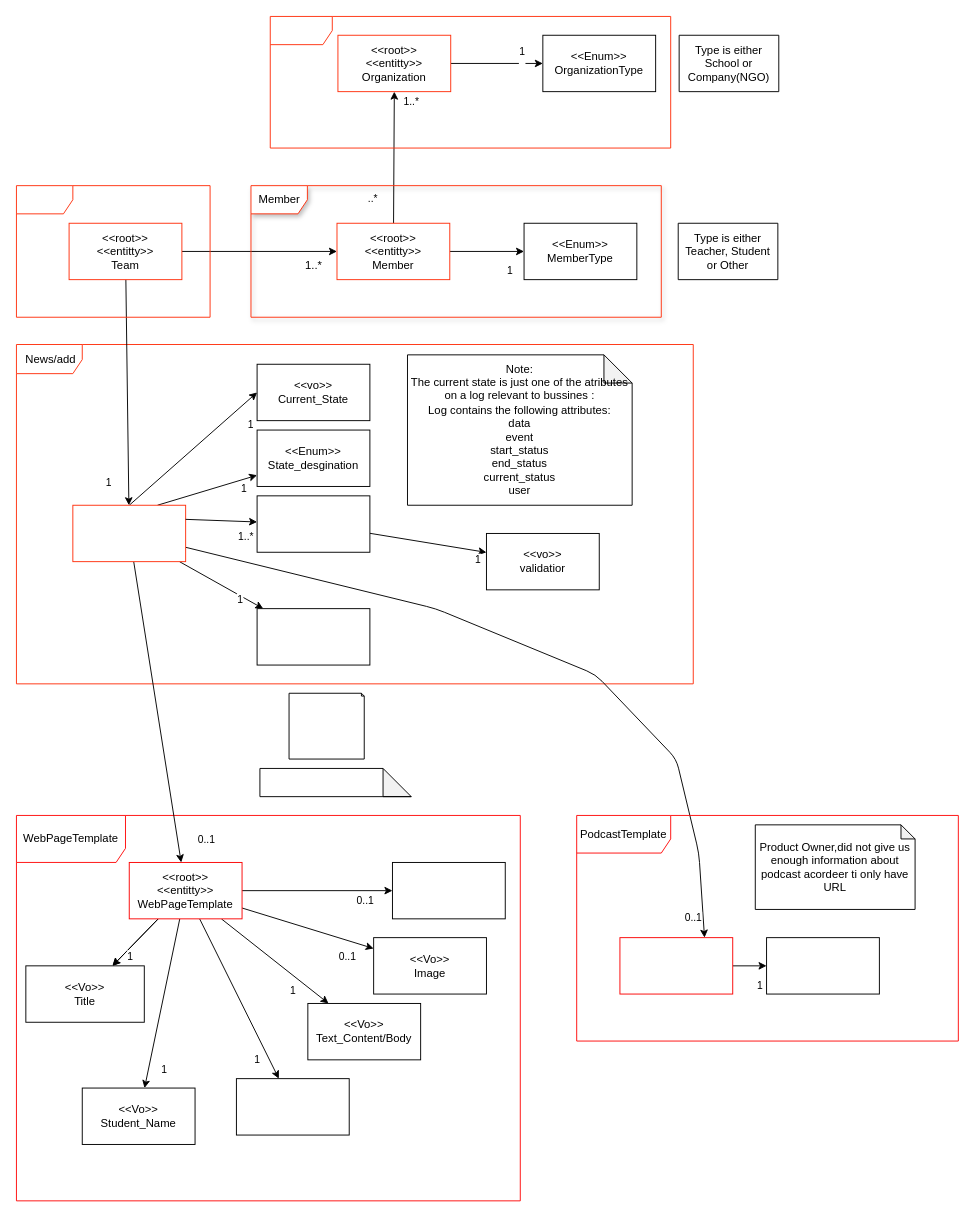
Image size: 975x1217. Some labels were removed from this diagram. The shapes that lost their labels are listed below. From the top down, each one's centre as x and y in pixels, then its label:
At (470,82): "Organization".
At (113,251): "Team".
At (129,533): "<<root>> <<entitty>> News/add".
At (313,523): "<<vo>> Feedback_coment".
At (313,636): "<<vo>> Location".
At (326,725): "Removed Type for now".
At (335,782): "either add or podcast".
At (448,890): "<<Vo>> Video".
At (676,965): "<<root>> <<entitty>> PodcastTemplate".
At (822,965): "<<Vo>> <<Id>> URL".
At (292,1106): "<<Vo>> Comment_Section".
